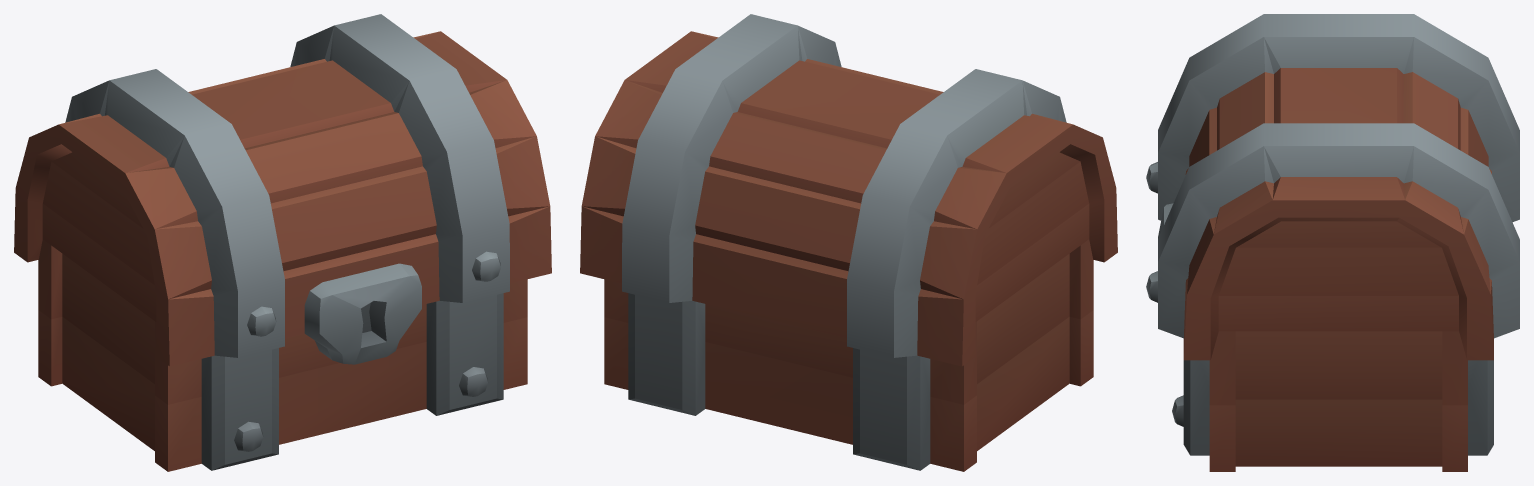
Rendered from fw_chest_ironbound.glb.
The picture shows the model from 3 angles, left to right: view 1: azimuth 30°, elevation 25°; view 2: azimuth 150°, elevation 25°; view 3: azimuth 270°, elevation 25°; orthographic projection.
Parts seen in each view (by area): view 1: body; view 2: body; view 3: body.
Part boxes in pixels (x1,y1,x2,y2): body: (14, 14, 551, 471); body: (580, 14, 1117, 471); body: (1146, 14, 1519, 471).
Size of the model in its own units: 1.02 by 0.78 by 0.8675.
